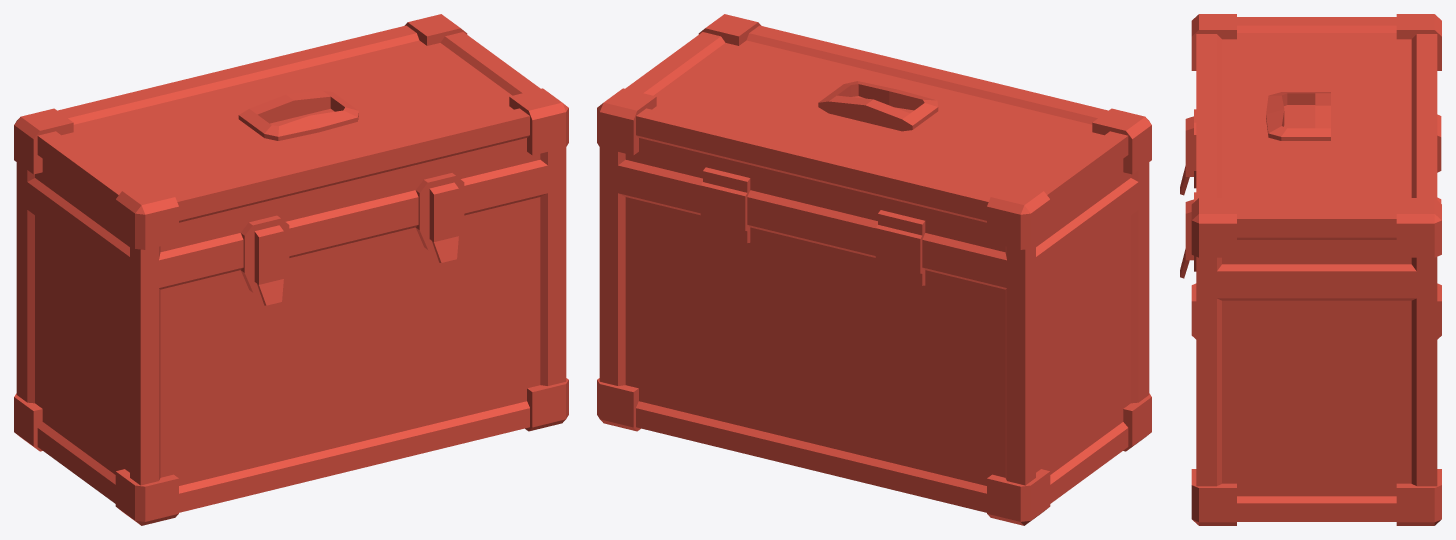
Rendered from SM_Box_Equipment_Padded_Vertical.fbx.
The picture shows the model from 3 angles, left to right: view 1: azimuth 30°, elevation 25°; view 2: azimuth 150°, elevation 25°; view 3: azimuth 270°, elevation 25°; orthographic projection. The views are drawn at different scales.
Parts seen in each view (by area): view 1: SM_Box_Equipment_Padded_Vertical; view 2: SM_Box_Equipment_Padded_Vertical; view 3: SM_Box_Equipment_Padded_Vertical.
Boxes of the visible parts, x1,y1,x2,y2 form: SM_Box_Equipment_Padded_Vertical: (14, 14, 568, 525); SM_Box_Equipment_Padded_Vertical: (597, 14, 1151, 525); SM_Box_Equipment_Padded_Vertical: (1180, 14, 1441, 525).
Size of the model in its own units: 25.48 by 47.44 by 34.49.
